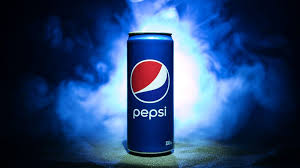Pepsi: (113, 24, 182, 157)
